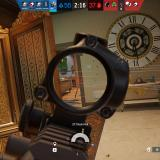Friend_label: (114, 57, 123, 63)
